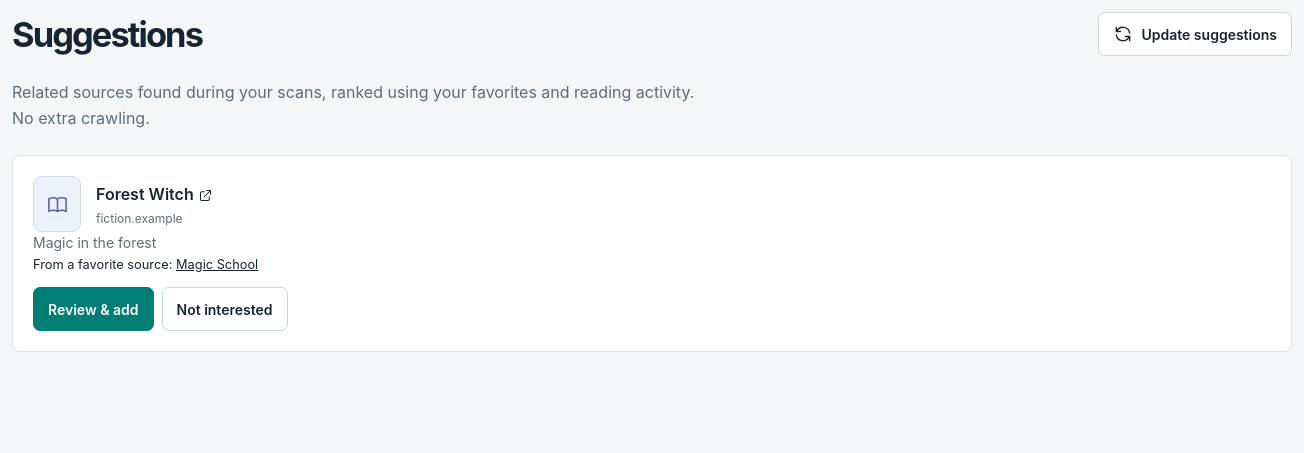
Test case: failed dismissal keeps the recommendation and has a dismissible error
The image size is (1304, 453).
Click the button with aria-label "Not interested in Forest Witch".
click(224, 309)  # box top-left (162, 287), bottom-right (288, 331)
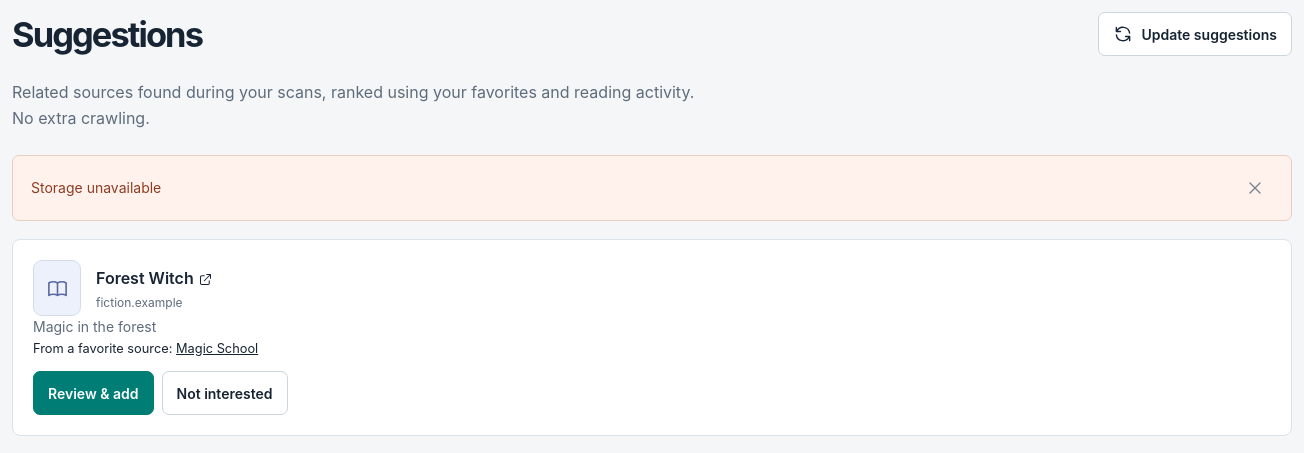
Expected: the link "Forest Witch" is shown, top-left (96, 268), bottom-right (213, 288)
Now the message reads "Storage unavailable", box top-left (31, 179), bottom-right (161, 196)
Click the button named "Dismiss error".
click(1255, 188)  # box top-left (1237, 170), bottom-right (1273, 206)
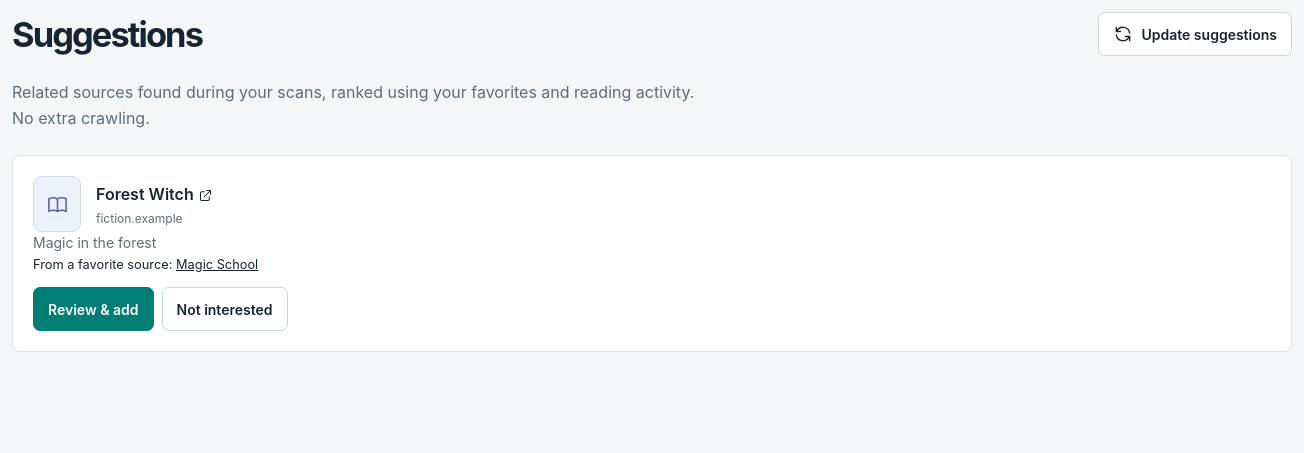
Now the message "Storage unavailable" is gone
